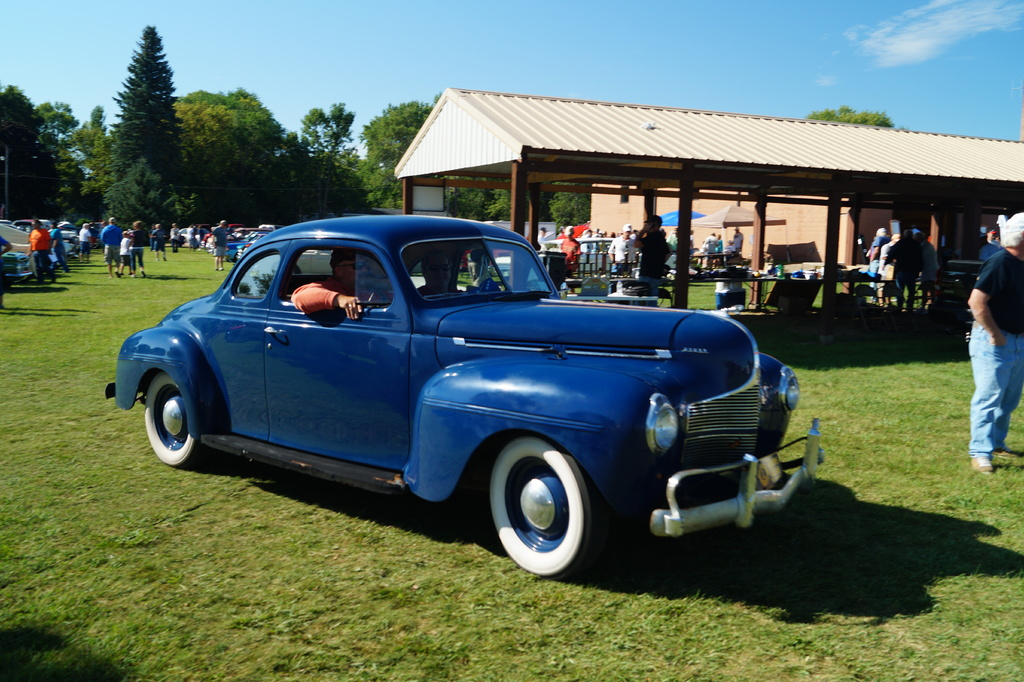car: (92, 144, 843, 587), (185, 211, 282, 266), (2, 213, 40, 292), (50, 216, 83, 247)
